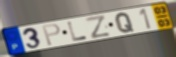1: (139, 8, 153, 30)
3: (22, 26, 45, 50)
L: (66, 20, 89, 42)
P: (42, 23, 62, 47)
Q: (115, 12, 136, 34)
Z: (84, 14, 112, 40)
